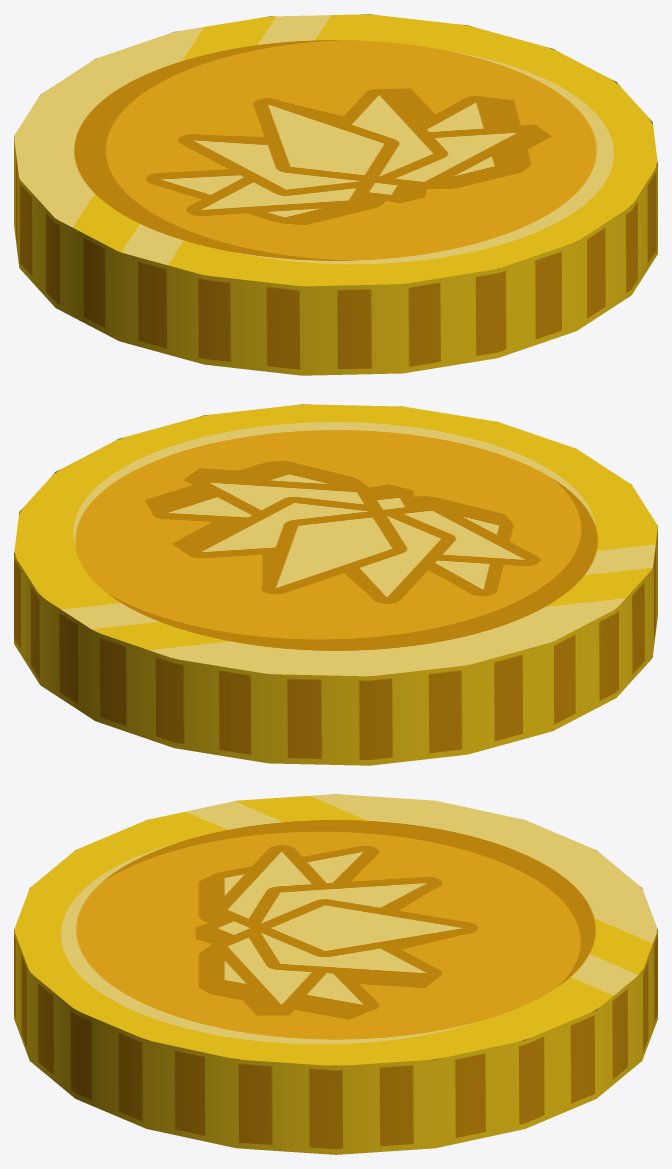
The model's file is coin.fbx.
3 renders of one model, top to bottom at view 1: azimuth 30°, elevation 25°; view 2: azimuth 150°, elevation 25°; view 3: azimuth 270°, elevation 25°, orthographic.
Parts seen in each view (by area): view 1: coin1; view 2: coin1; view 3: coin1.
Boxes of the visible parts, left/top/right/bottom form: coin1: left=14, top=14, right=657, bottom=375; coin1: left=14, top=404, right=657, bottom=765; coin1: left=14, top=794, right=657, bottom=1154.
Size of the model in its own units: 86.18 by 13.11 by 86.18.
